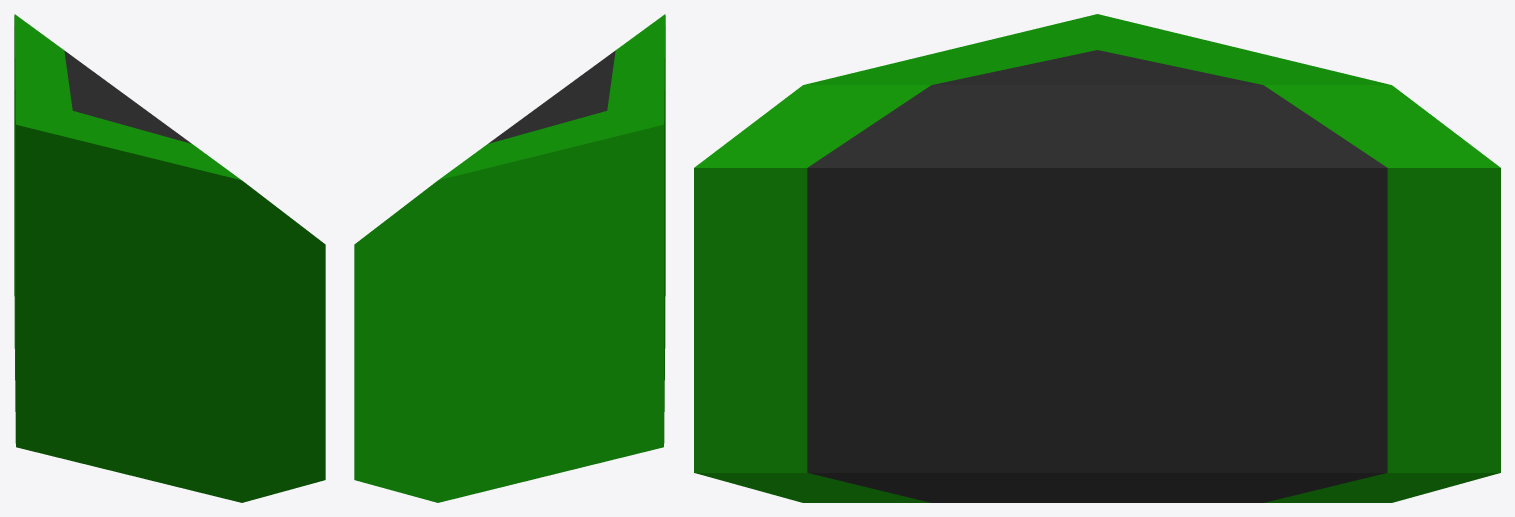
The model's file is SM_Module_ArmourThird_BO.fbx.
The picture shows the model from 3 angles, left to right: view 1: azimuth 30°, elevation 25°; view 2: azimuth 150°, elevation 25°; view 3: azimuth 270°, elevation 25°; orthographic projection. The views are drawn at different scales.
Visible parts, largest first — view 1: SM_Module_ArmourThird_BO; view 2: SM_Module_ArmourThird_BO; view 3: SM_Module_ArmourThird_BO.
Boxes of the visible parts, x1,y1,x2,y2 form: SM_Module_ArmourThird_BO: (14,14,325,502); SM_Module_ArmourThird_BO: (354,14,665,502); SM_Module_ArmourThird_BO: (694,14,1500,502).
Size of the model in its own units: 1 by 3.5 by 2.
